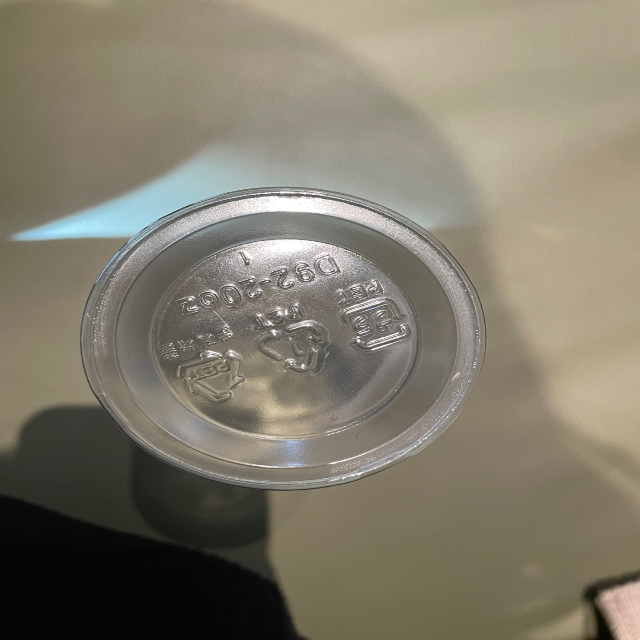pet: (157, 326, 247, 406), (249, 302, 335, 379), (332, 276, 414, 354)
